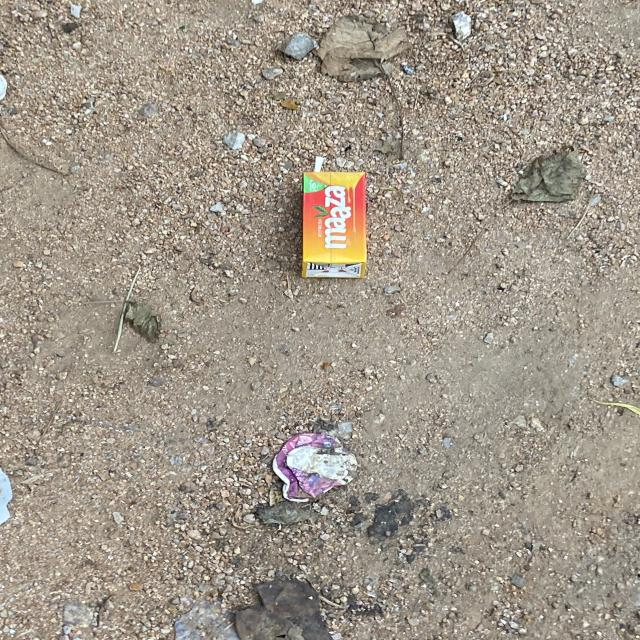paper: (301, 171, 367, 278)
